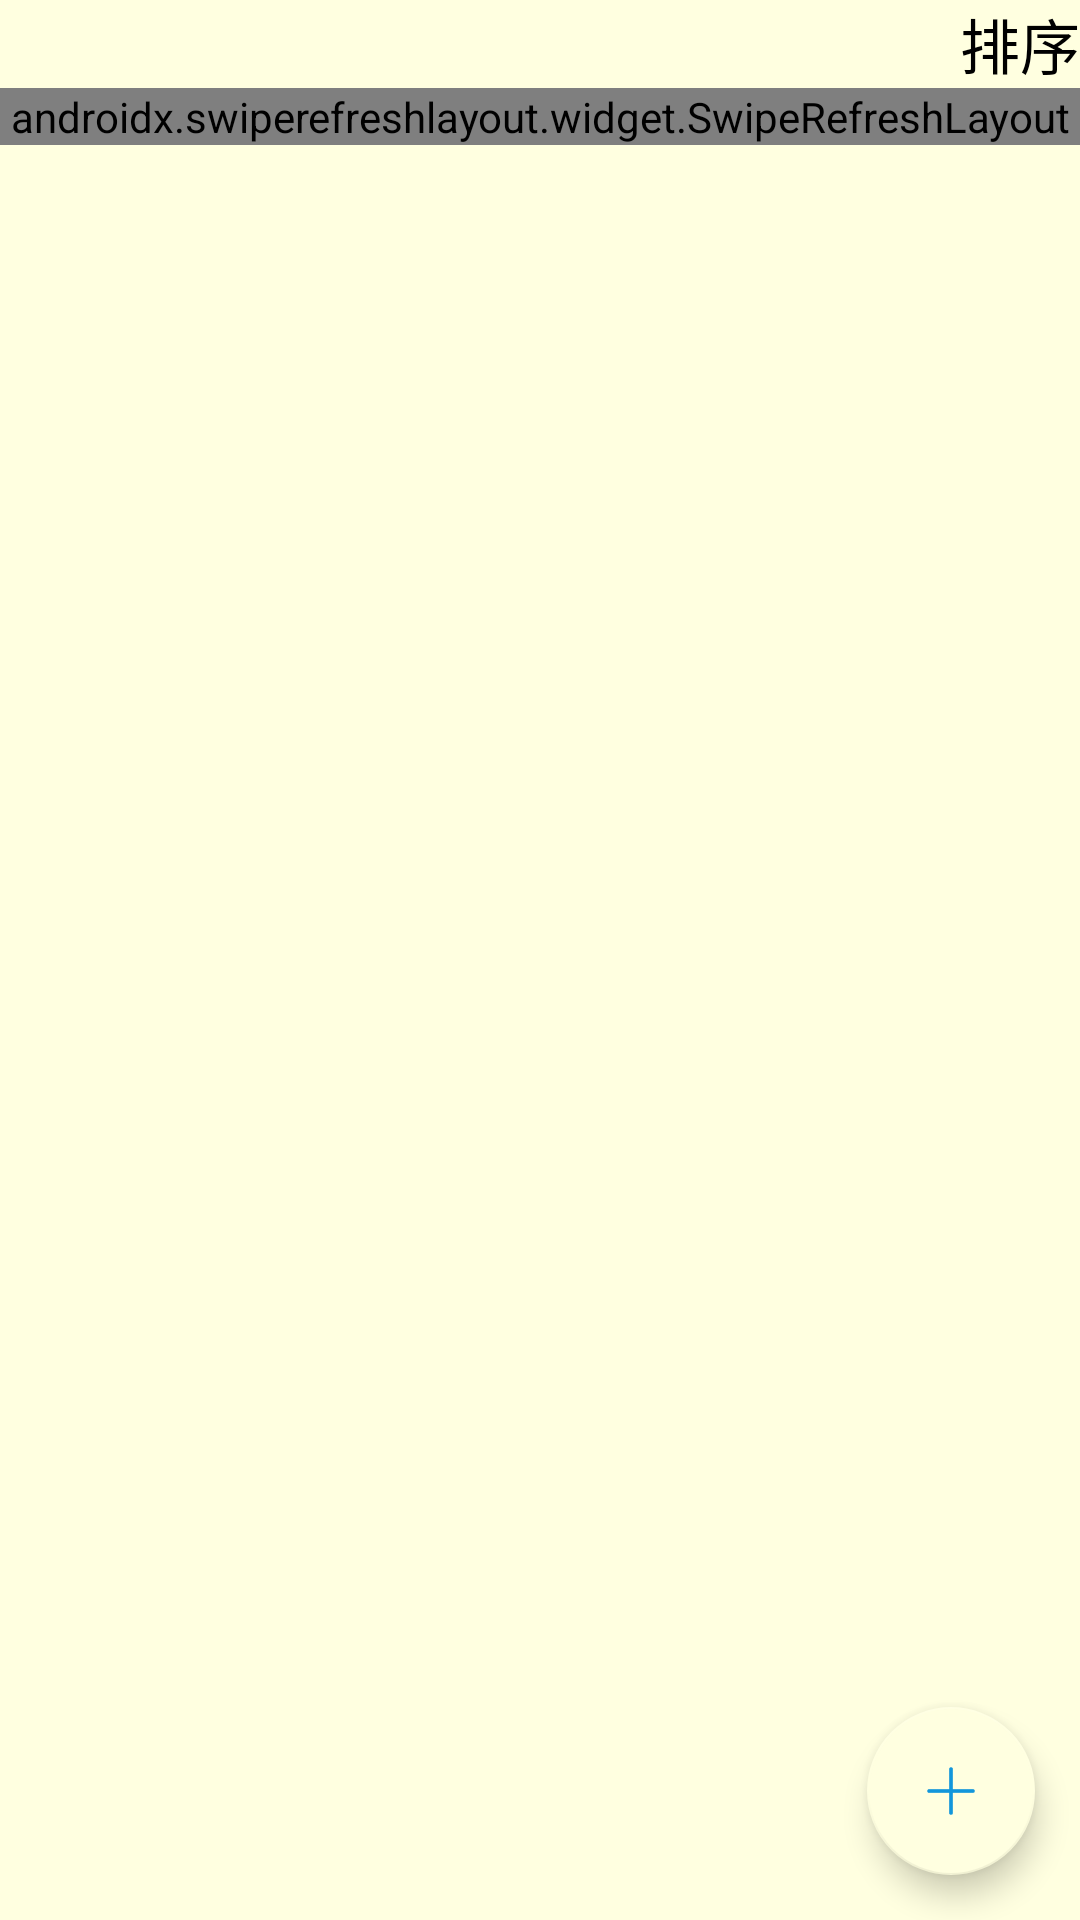

Icon bounding boxes for this 1080px×1920px phone screenshot, format rect(x1, y1, x2, y2):
increase: rect(871, 1767, 1035, 1875)
